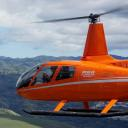helicopter: (15, 5, 128, 120)
